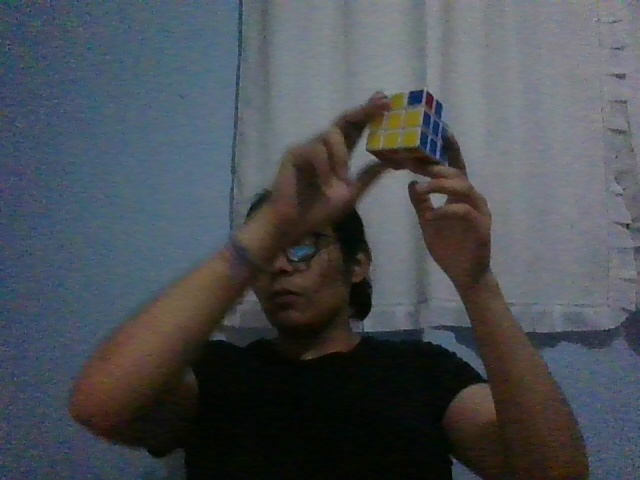rubik: (365, 88, 448, 170)
